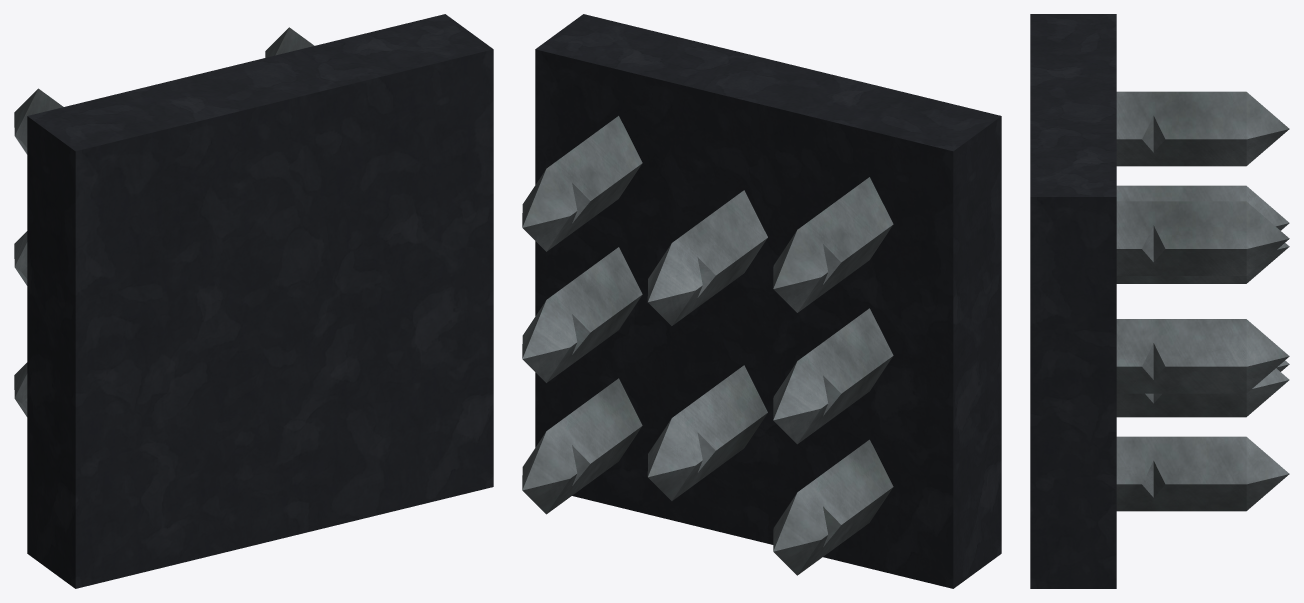
Rendered from spiketrap.glb.
The picture shows the model from 3 angles, left to right: view 1: azimuth 30°, elevation 25°; view 2: azimuth 150°, elevation 25°; view 3: azimuth 270°, elevation 25°; orthographic projection. The views are drawn at different scales.
Visible parts, largest first — view 1: block, blade_broken (×2); view 2: block, blade_broken (×8); view 3: blade_broken (×7), block.
Boxes of the visible parts, x1,y1,x2,y2 form: block: (27, 14, 493, 588); blade_broken (×2): (14, 27, 314, 154); block: (535, 14, 1001, 588); blade_broken (×8): (522, 116, 893, 575); blade_broken (×7): (1116, 91, 1289, 511); block: (1030, 14, 1116, 588).
Bounding box in the file's own units: 1 × 1 × 0.6.
Materials: 9 (9 with a texture image).
